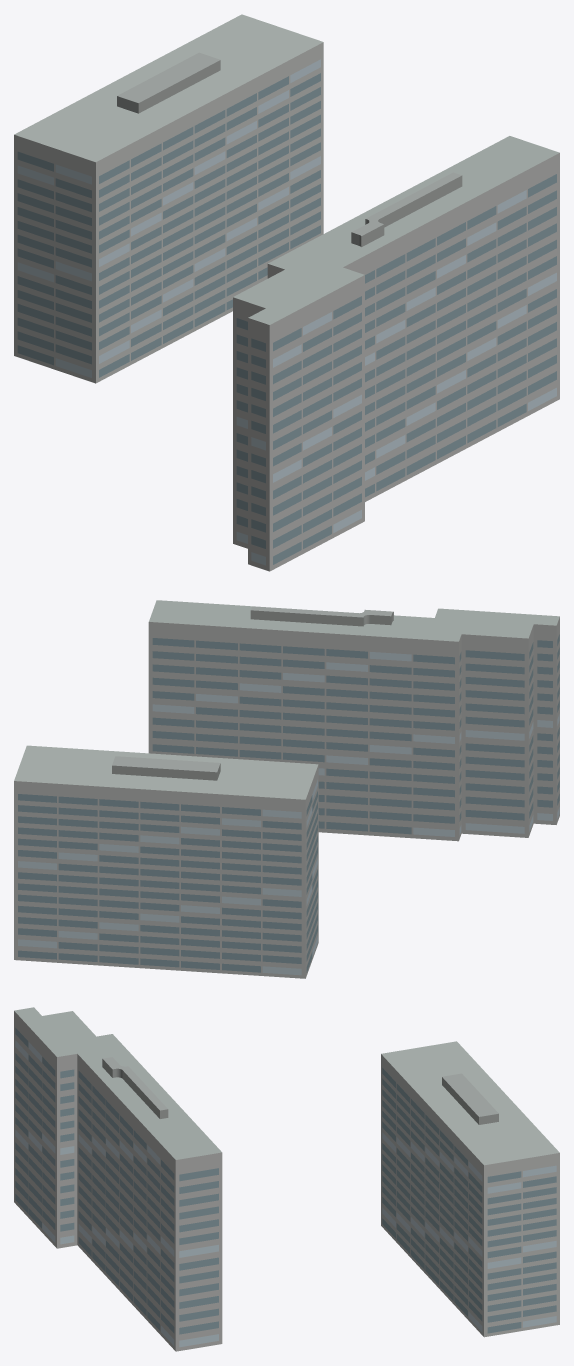
Rendered from apt-a10024799.glb.
3 renders of one model, top to bottom at view 1: azimuth 30°, elevation 25°; view 2: azimuth 150°, elevation 25°; view 3: azimuth 270°, elevation 25°, orthographic. The views are drawn at different scales.
Parts seen in each view (by area): view 1: apt-a10024799; view 2: apt-a10024799; view 3: apt-a10024799.
Boxes of the visible parts, box(x1,y1,x2,y2) form: apt-a10024799: box(14, 14, 559, 571); apt-a10024799: box(14, 600, 559, 978); apt-a10024799: box(14, 1007, 559, 1351).
Size of the model in its own units: 78.28 by 47.81 by 118.
